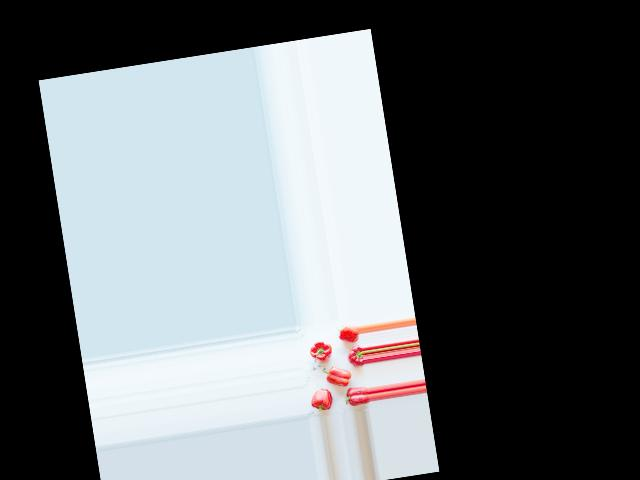bell_pepper: (345, 345, 364, 369)
